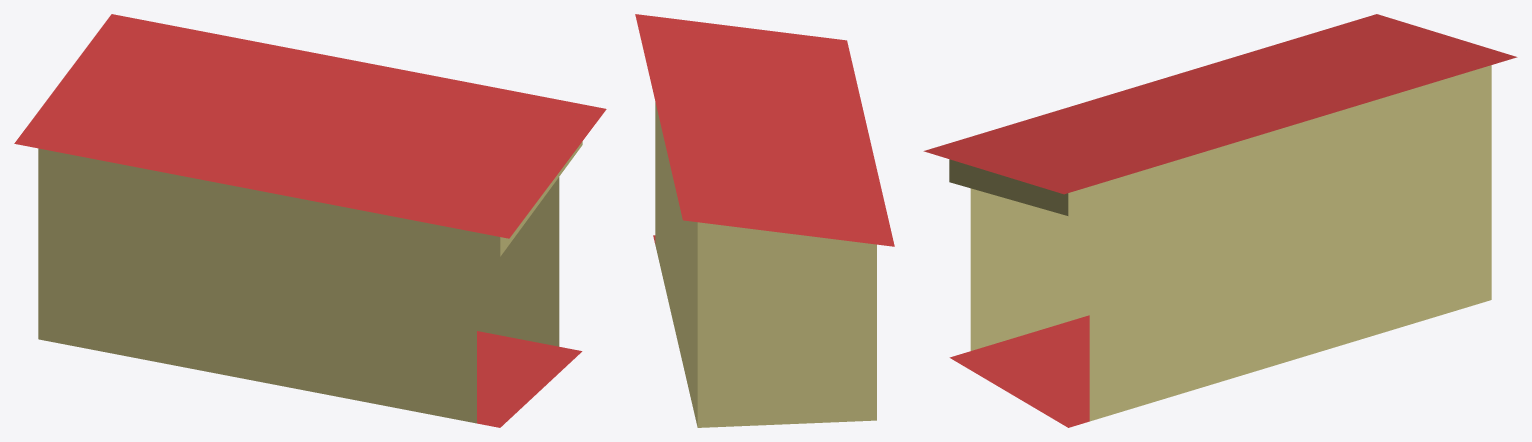
The picture shows the model from 3 angles, left to right: view 1: azimuth 30°, elevation 25°; view 2: azimuth 150°, elevation 25°; view 3: azimuth 270°, elevation 25°; orthographic projection. The views are drawn at different scales.
Size of the model in its own units: 13.94 by 15.89 by 7.21.
